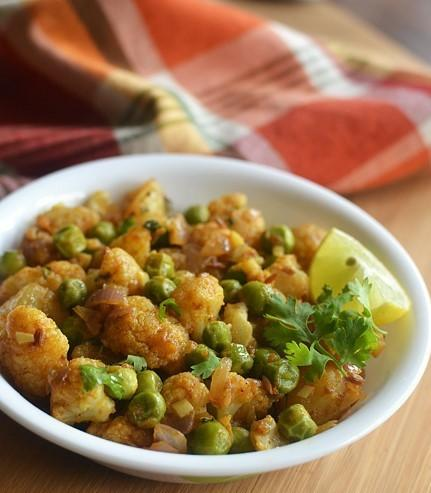AlooGobi: (0, 176, 384, 454)
